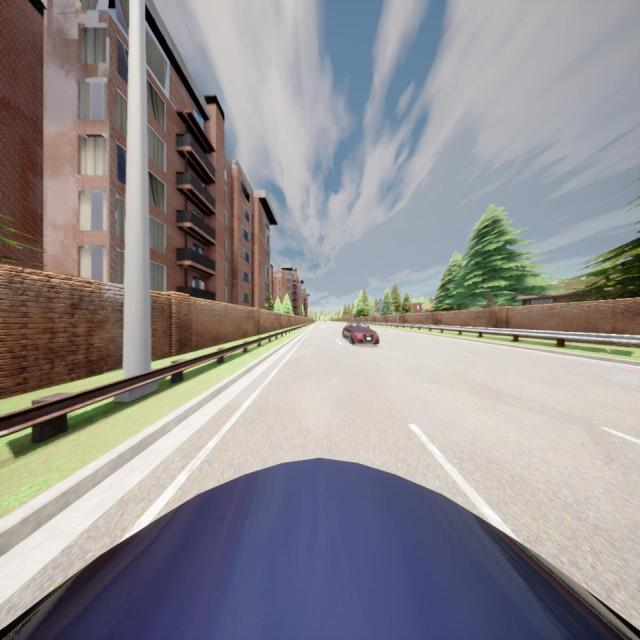Vehicle: (1, 458, 640, 640), (341, 322, 380, 345)
